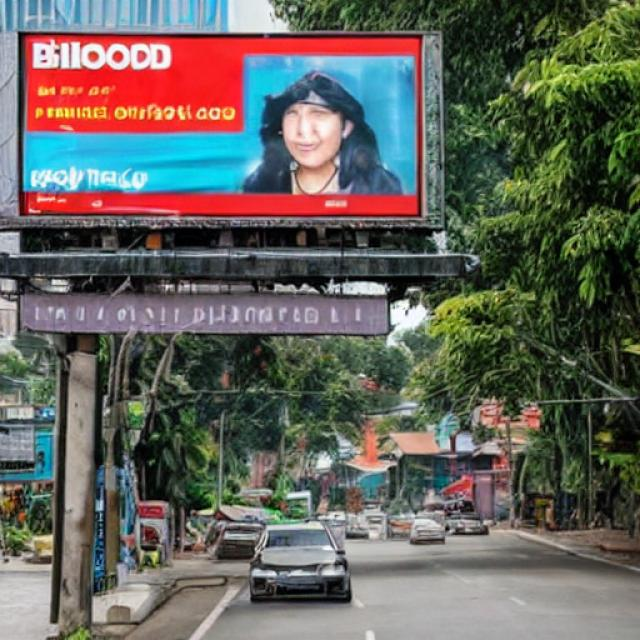Billboard: (0, 30, 435, 226)
